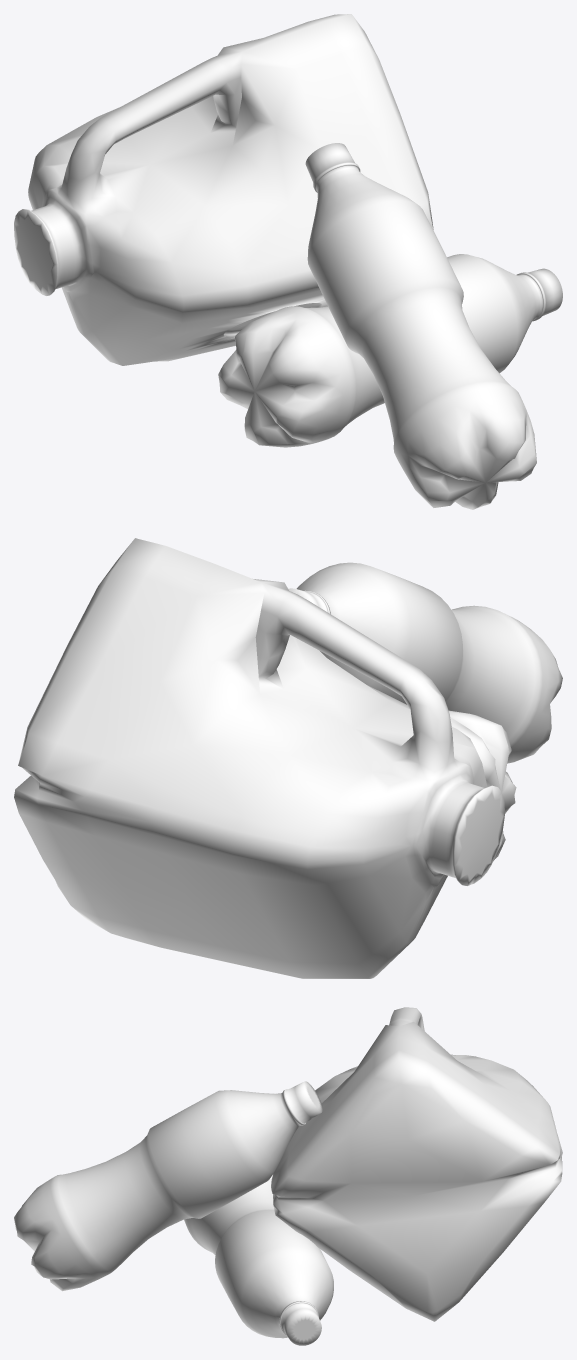
Rendered from plasticTrash.fbx.
3 renders of one model, top to bottom at view 1: azimuth 30°, elevation 25°; view 2: azimuth 150°, elevation 25°; view 3: azimuth 270°, elevation 25°, orthographic. The views are drawn at different scales.
Parts seen in each view (by area): view 1: polySurface2; view 2: polySurface2; view 3: polySurface2.
Part boxes in pixels (x1=…): polySurface2: x1=14, y1=14, x2=562, y2=509; polySurface2: x1=14, y1=538, x2=562, y2=978; polySurface2: x1=14, y1=1007, x2=562, y2=1345.
Size of the model in its own units: 15.96 by 10.96 by 20.84.
Materials: 2 (2 with a texture image).
